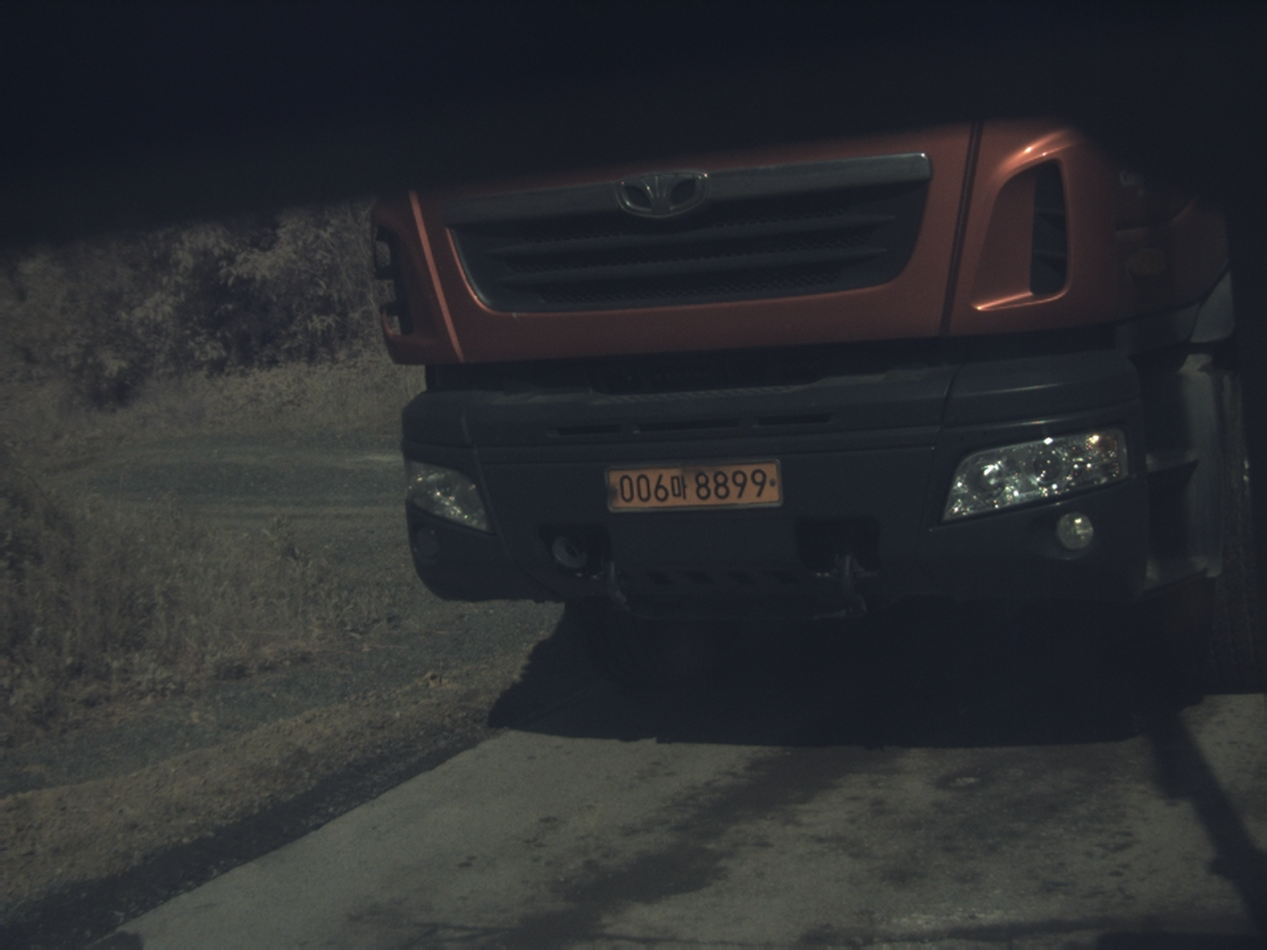license_plate: (609, 460, 780, 510)
truck: (374, 121, 1262, 687)
